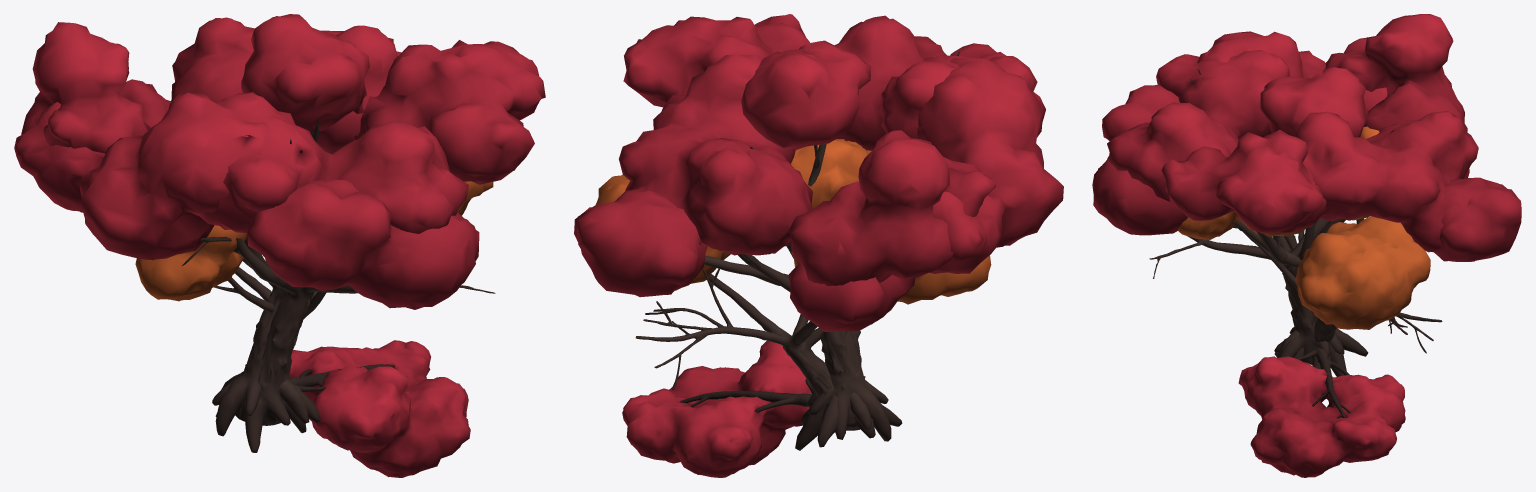
The model's file is trees.glb.
3 views of the same model, side by side, from view 1: azimuth 30°, elevation 25°; view 2: azimuth 150°, elevation 25°; view 3: azimuth 270°, elevation 25° (orthographic). The views are drawn at different scales.
Parts seen in each view (by area): view 1: MapleTree_2, MapleTree_0, MapleBranch_Overhang, MapleTree_1; view 2: MapleTree_2, MapleTree_0, MapleBranch_Overhang, MapleTree_1; view 3: MapleTree_0, MapleTree_2, MapleBranch_Overhang, MapleTree_1.
Part boxes in pixels (bbox=[...]): MapleTree_2: bbox=[14, 14, 545, 452]; MapleTree_0: bbox=[21, 17, 468, 436]; MapleBranch_Overhang: bbox=[288, 340, 470, 477]; MapleTree_1: bbox=[135, 181, 493, 433]; MapleTree_2: bbox=[574, 14, 1063, 450]; MapleTree_0: bbox=[616, 15, 1037, 441]; MapleBranch_Overhang: bbox=[622, 340, 814, 477]; MapleTree_1: bbox=[595, 139, 991, 429]; MapleTree_0: bbox=[1107, 14, 1478, 366]; MapleTree_2: bbox=[1092, 31, 1521, 376]; MapleBranch_Overhang: bbox=[1238, 347, 1405, 477]; MapleTree_1: bbox=[1178, 126, 1442, 368].
Bounding box in the file's own units: 15 × 14.9 × 15.79.
